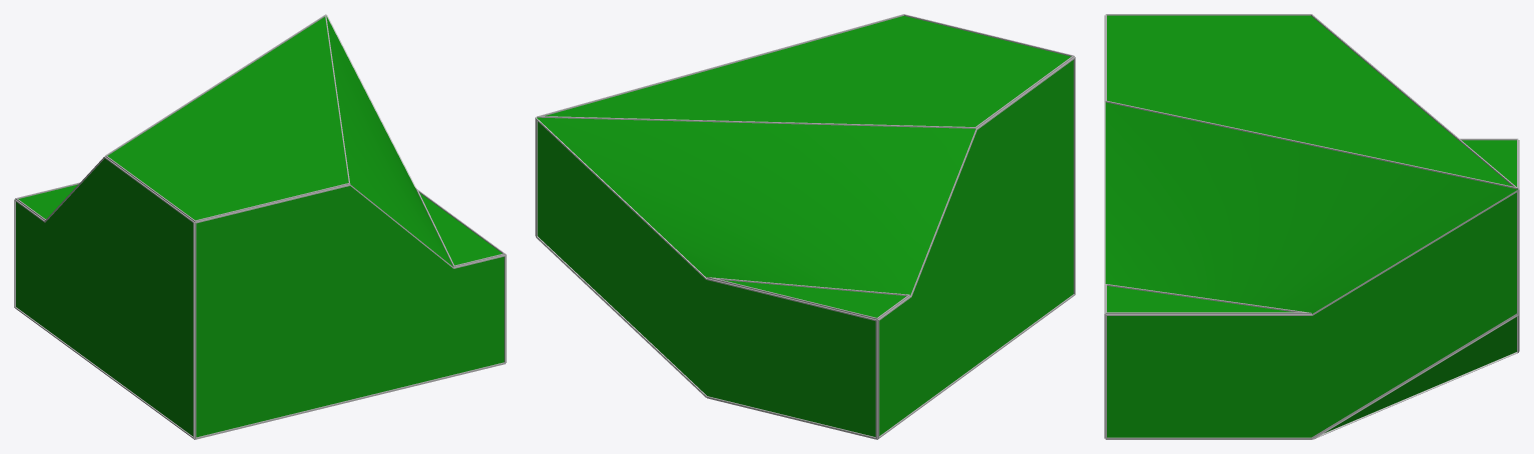
File: PecaK.glb
The picture shows the model from 3 angles, left to right: view 1: azimuth 30°, elevation 25°; view 2: azimuth 150°, elevation 25°; view 3: azimuth 270°, elevation 25°; orthographic projection. The views are drawn at different scales.
Parts seen in each view (by area): view 1: Sólido1; view 2: Sólido1; view 3: Sólido1.
Boxes of the visible parts, box(x1,y1,x2,y2) form: Sólido1: box(14, 14, 506, 439); Sólido1: box(535, 14, 1075, 439); Sólido1: box(1104, 14, 1519, 439).
Size of the model in its own units: 0.0302 by 0.0202 by 0.0302.
